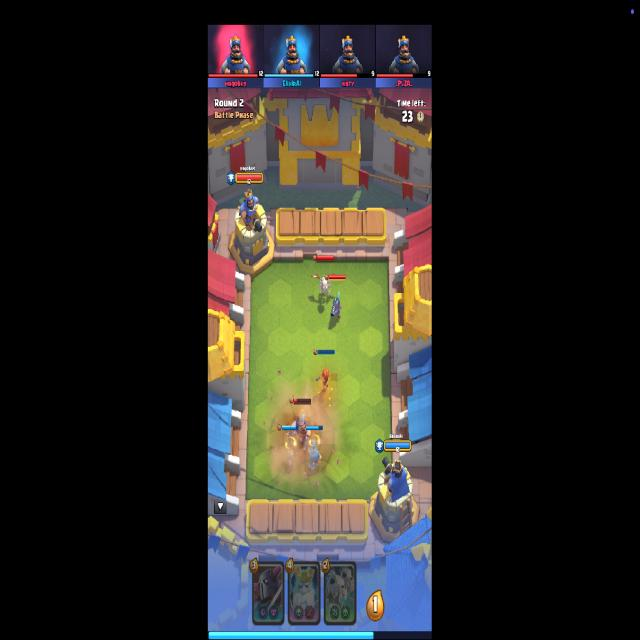card_pekka: (252, 561, 284, 626)
card_royal_ghost: (288, 561, 320, 625)
card_skeleton_dragon: (323, 561, 357, 624)
mega_knight: (290, 414, 311, 448)
musketeer: (331, 291, 341, 322)
princess: (284, 444, 300, 467)
skeleton_dragon: (310, 271, 340, 298)
valkyrie: (316, 367, 329, 393)
wizard: (308, 439, 321, 469)
